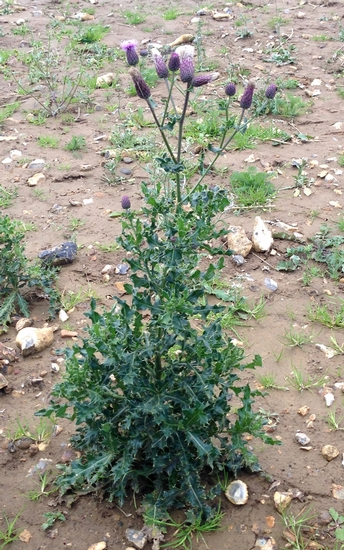thistle: (125, 71, 156, 105), (234, 78, 259, 115), (117, 43, 145, 70), (116, 194, 136, 218), (167, 52, 181, 74)
